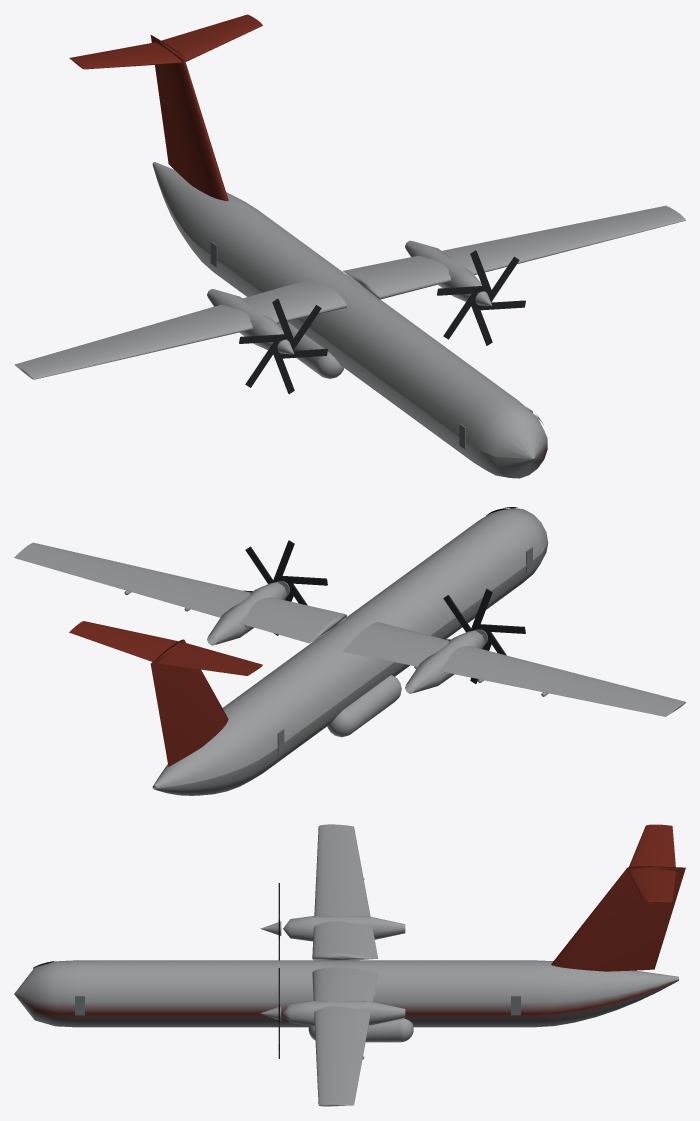
File: turboprop.glb
3 views of the same model, one above another, from view 1: azimuth 30°, elevation 25°; view 2: azimuth 150°, elevation 25°; view 3: azimuth 270°, elevation 25° (orthographic). The views are drawn at different scales.
Size of the model in its own units: 27 by 7.5 by 27.48.
